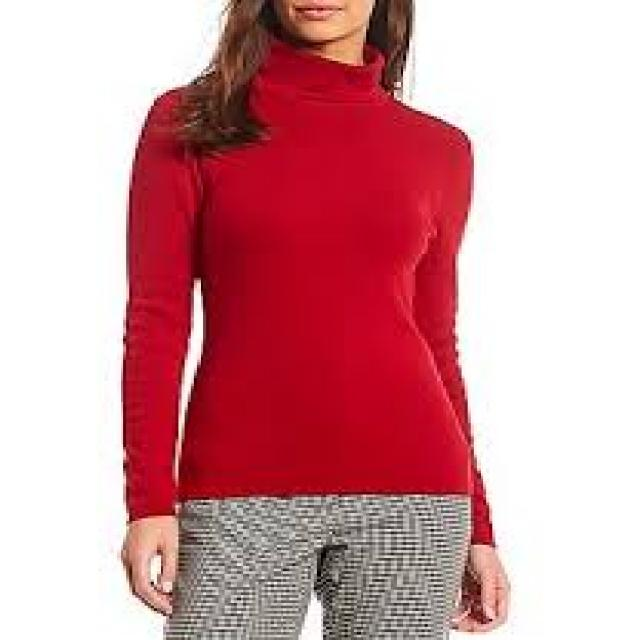plain: (31, 57, 568, 535)
